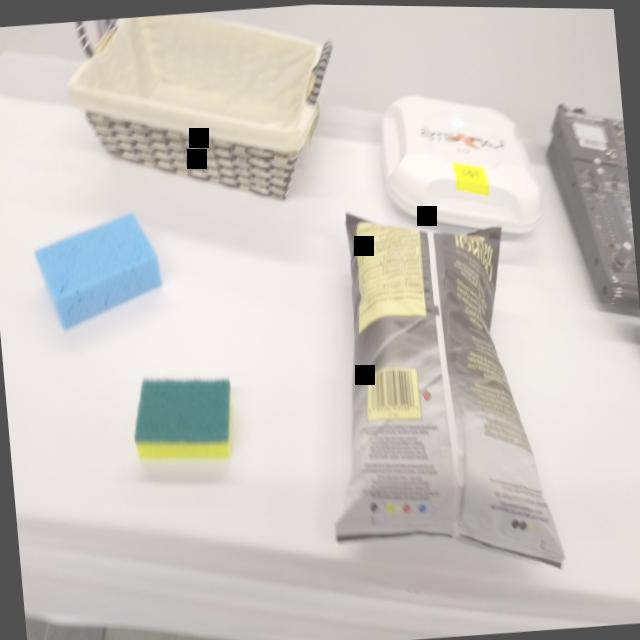potato_chips: (303, 186, 565, 587)
scrubby: (128, 365, 242, 467)
sponge_opl: (27, 202, 171, 336)
